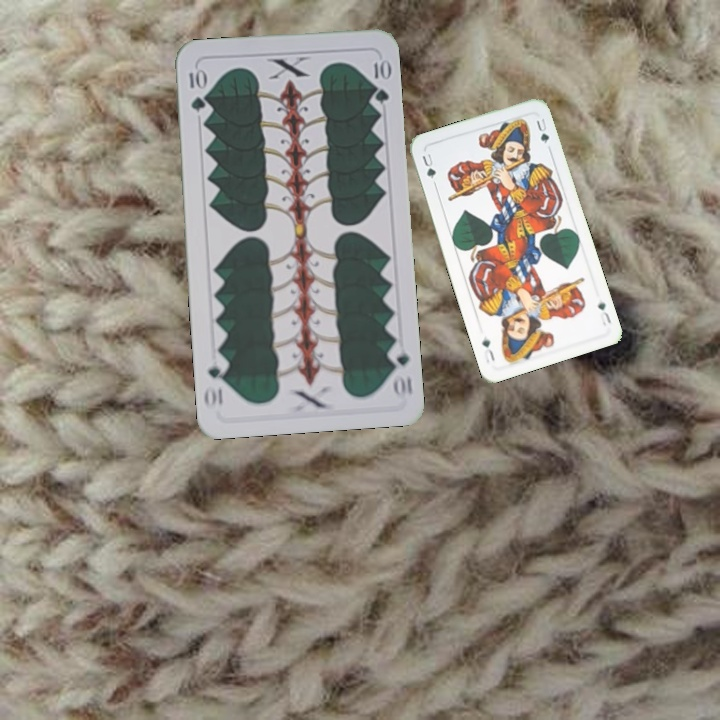G10: (385, 340, 415, 399), (185, 64, 208, 114)
GU: (418, 149, 439, 181), (594, 297, 613, 329)
